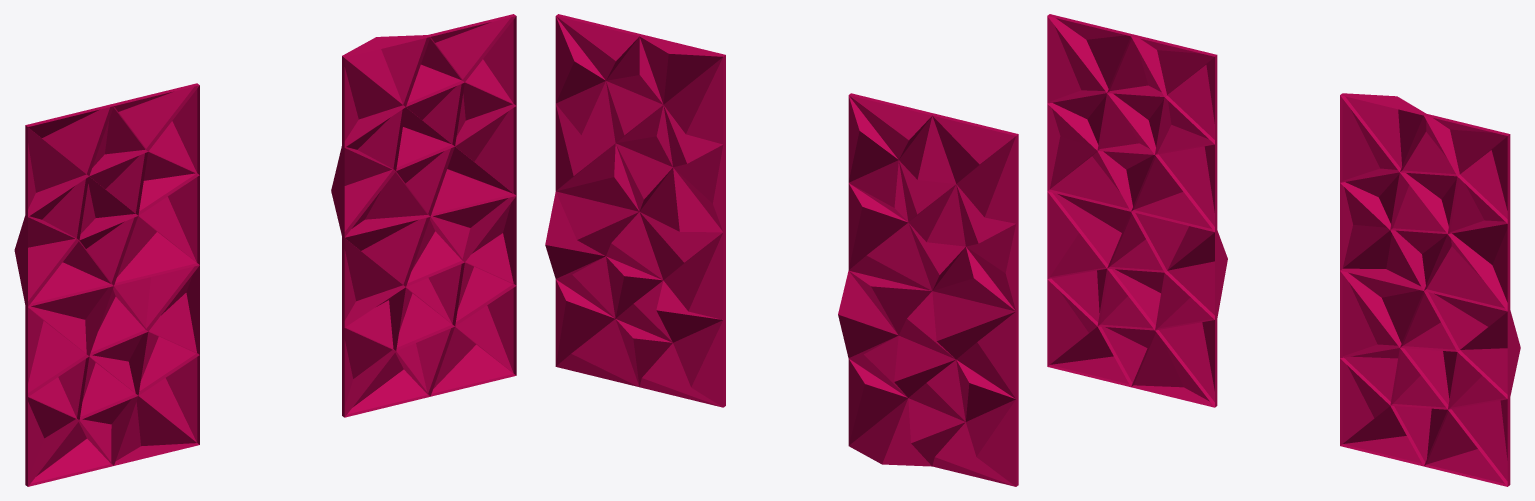
Rendered from wall_pannels.fbx.
The picture shows the model from 3 angles, left to right: view 1: azimuth 30°, elevation 25°; view 2: azimuth 150°, elevation 25°; view 3: azimuth 330°, elevation 25°; orthographic projection. The views are drawn at different scales.
Visible parts, largest first — view 1: Plane001 (×2); view 2: Plane001 (×2); view 3: Plane001 (×2).
Part boxes in pixels (x1,y1,x2,y2): Plane001 (×2): (14,14,516,486); Plane001 (×2): (545,14,1018,486); Plane001 (×2): (1047,14,1520,486).
Bounding box in the file's own units: 5110 × 3658 × 400.
